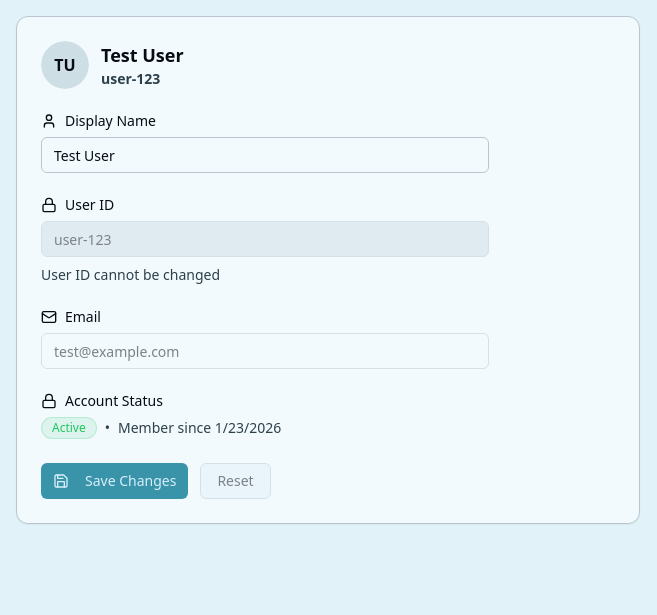
Test case: Profile Page › Profile Updates › should clear success message when reset is clicked
Replace the text in the field labelled "Display Name" with "Updated Name" at (265,155), box x1=41 y1=137 x2=489 y2=173
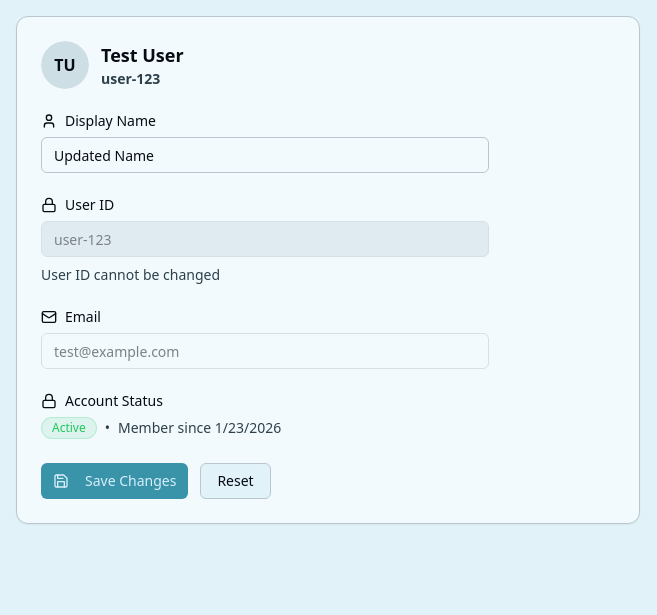
Click the button "Save Changes" at (115,481), box x1=41 y1=463 x2=188 y2=499
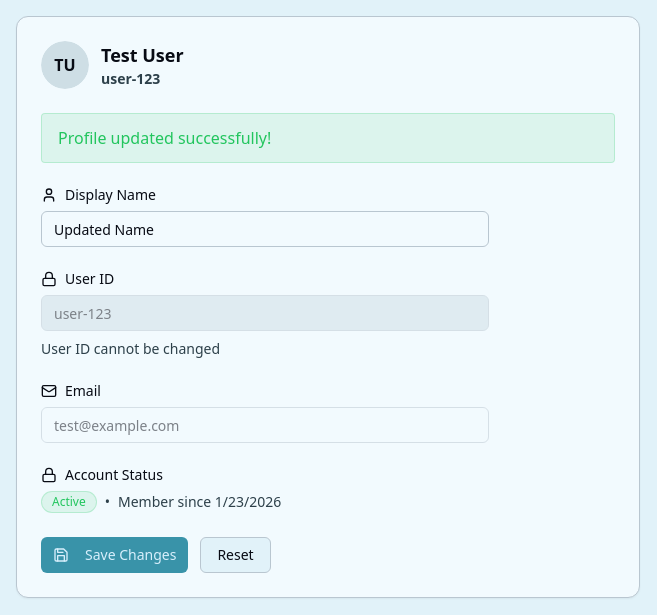
Check: the text "Profile updated successfully!" is shown, box x1=41 y1=113 x2=615 y2=163
Click the button "Reset" at (236,555), box x1=200 y1=537 x2=271 y2=573
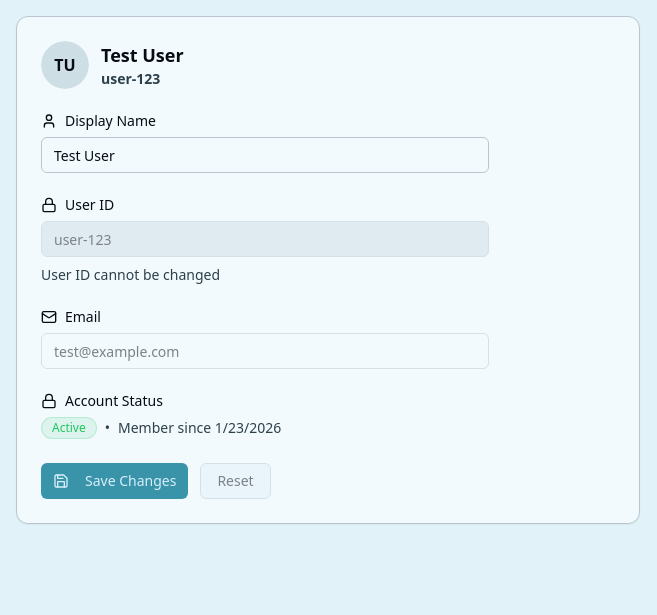
Check: the text "Profile updated successfully" is gone
